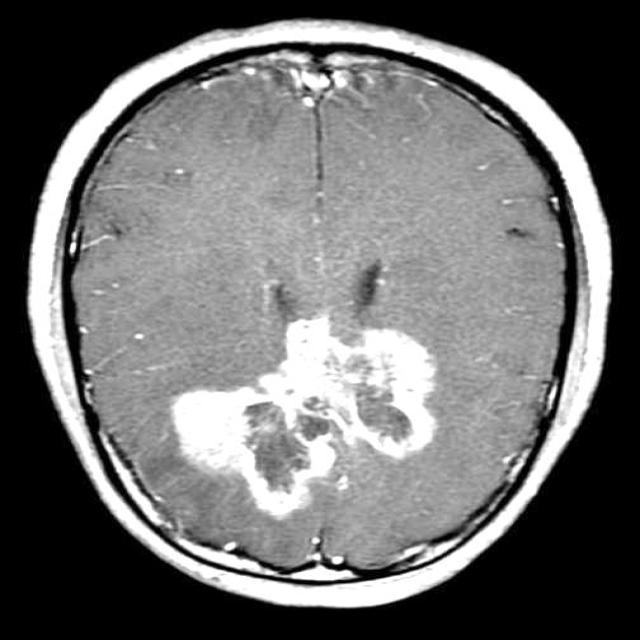brain tumor: (173, 319, 437, 518)
